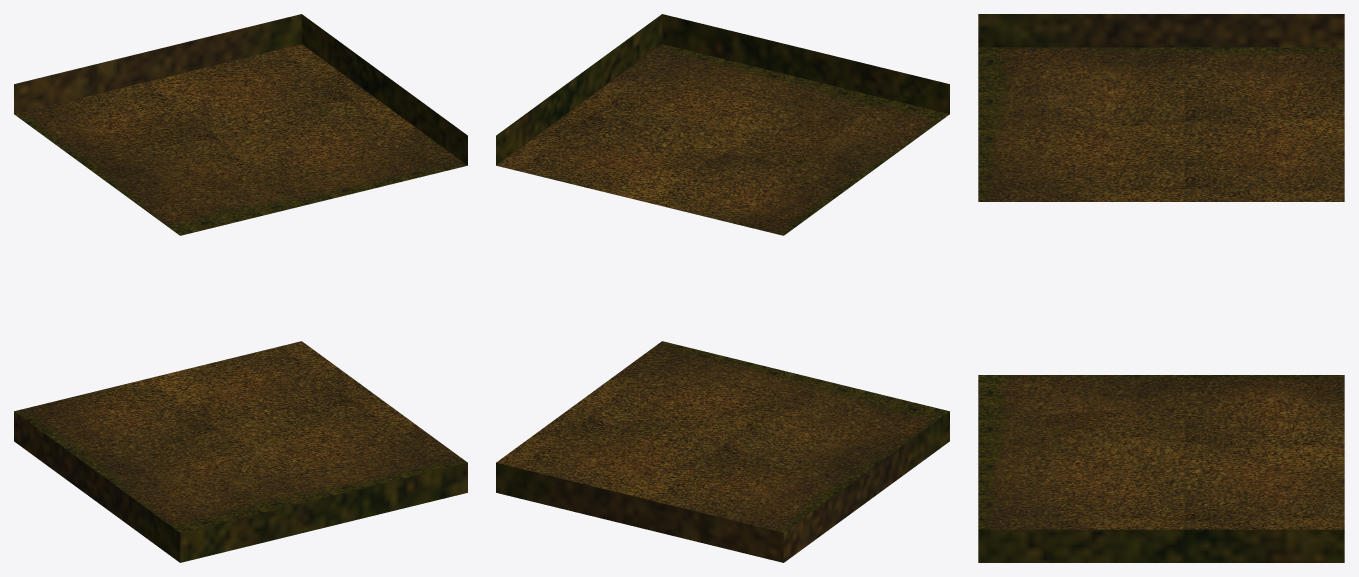
The model's file is EarthFloor5-2021.glb.
The picture shows the model from 3 angles, left to right: view 1: azimuth 30°, elevation 25°; view 2: azimuth 150°, elevation 25°; view 3: azimuth 270°, elevation 25°; orthographic projection. The views are drawn at different scales.
Visible parts, largest first — view 1: Cube; view 2: Cube; view 3: Cube.
Boxes of the visible parts, <box> form: Cube: <box>14,14,467,562</box>; Cube: <box>496,14,949,562</box>; Cube: <box>978,14,1344,562</box>.
Size of the model in its own units: 2 by 2.37 by 2.
1 material, 1 textured.
